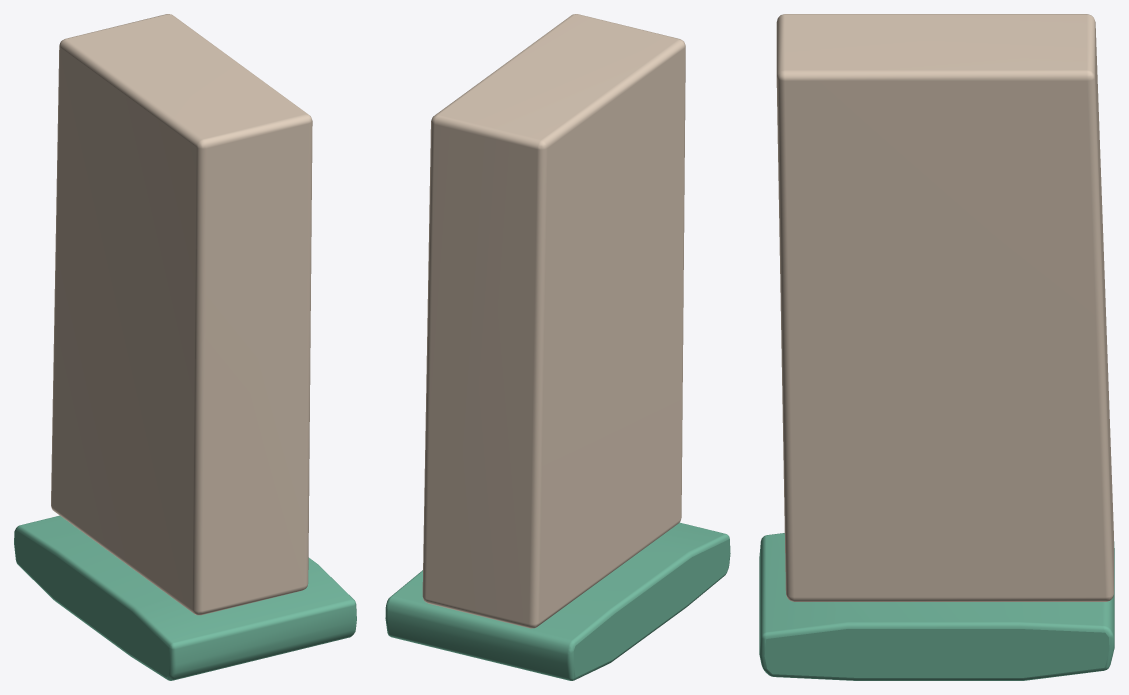
File: Gun_Mag.fbx
The picture shows the model from 3 angles, left to right: view 1: azimuth 30°, elevation 25°; view 2: azimuth 150°, elevation 25°; view 3: azimuth 270°, elevation 25°; orthographic projection. The views are drawn at different scales.
Parts seen in each view (by area): view 1: Gun_Mag; view 2: Gun_Mag; view 3: Gun_Mag.
Boxes of the visible parts, x1,y1,x2,y2 form: Gun_Mag: [14, 14, 356, 680]; Gun_Mag: [385, 14, 730, 680]; Gun_Mag: [759, 14, 1114, 680].
Bounding box in the file's own units: 0.034 × 0.0928 × 0.0506.
